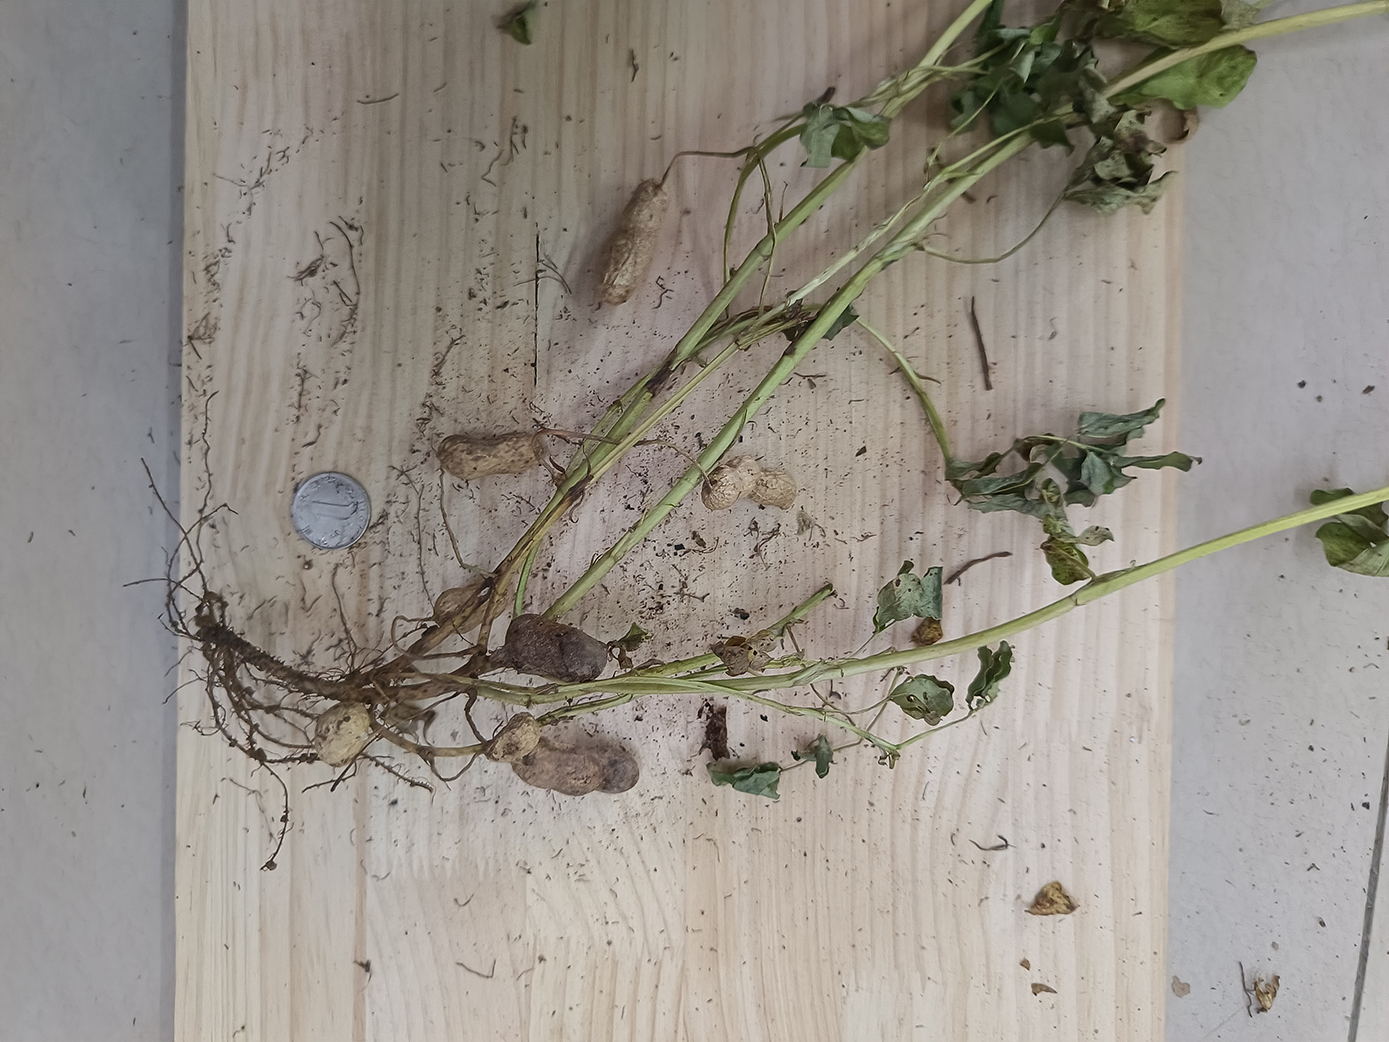h: (597, 175, 670, 306), (703, 455, 798, 513), (436, 433, 545, 478), (435, 579, 516, 632), (313, 702, 371, 765), (491, 714, 539, 760)
l: (503, 613, 607, 683), (512, 746, 640, 796)
